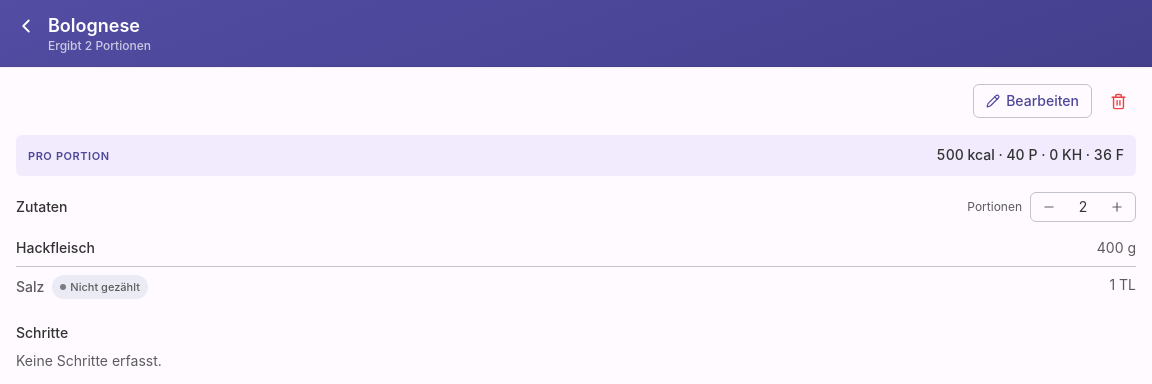
Scenario: RecipeDetail — totals strip & displayQuantity › reset returns displayQuantity to its stored amount
expect the heading "Bolognese" is shown: met, box x1=48 y1=15 x2=140 y2=36
Step 1. Click the button named "Eine Portion mehr" → [1117, 207], box x1=1103 y1=195 x2=1131 y2=219
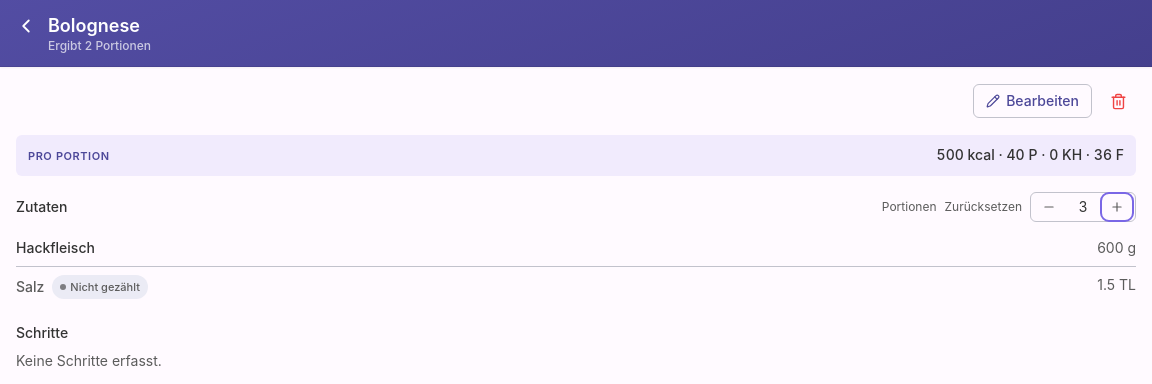
Step 2. Click the button named "Eine Portion mehr" → [1117, 207], box x1=1103 y1=195 x2=1131 y2=219
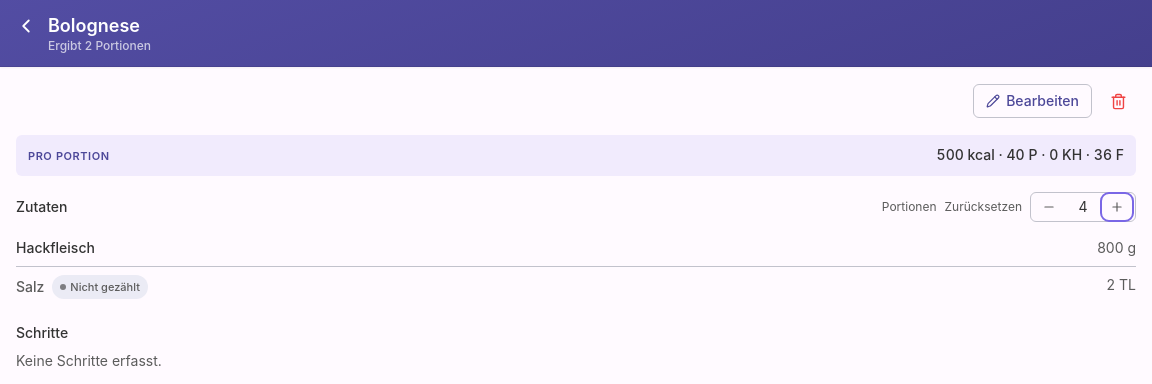
expect the text "2 TL" is shown: met, box x1=1107 y1=275 x2=1136 y2=295
Step 3. Click the button "Zurücksetzen" → [983, 207], box x1=944 y1=199 x2=1022 y2=215
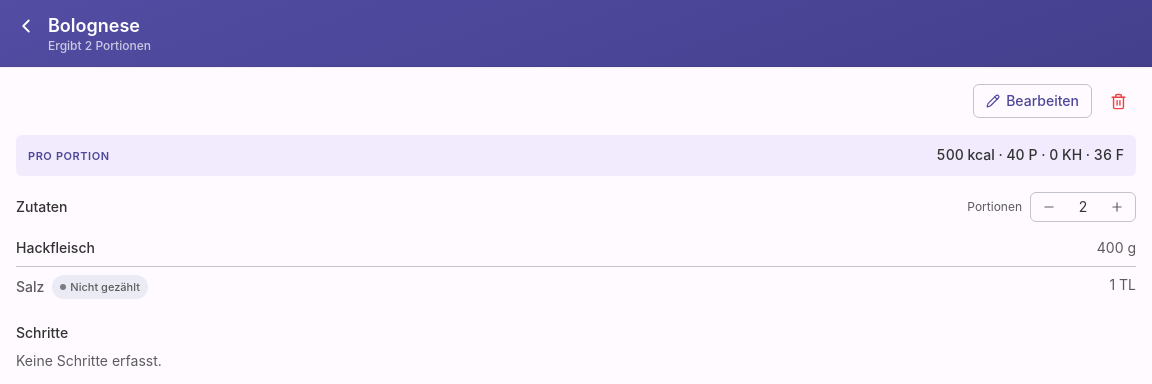
expect the text "1 TL" is shown: met, box x1=1109 y1=275 x2=1136 y2=295
